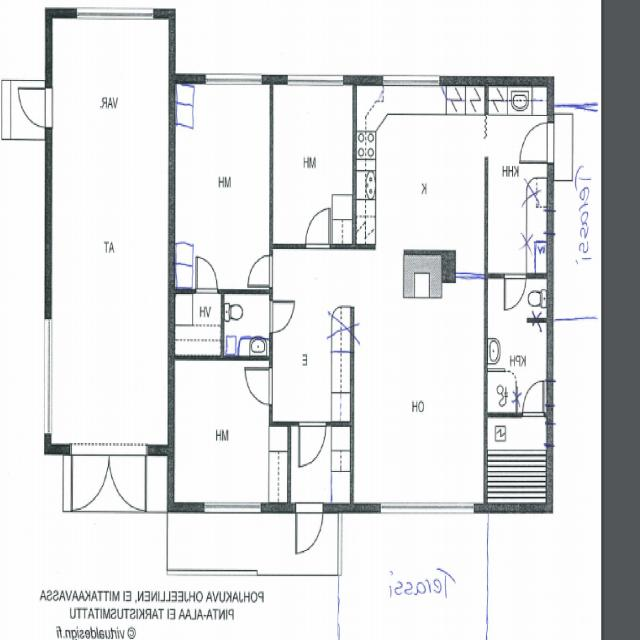door: (109, 445, 147, 512), (71, 445, 109, 512), (520, 122, 554, 162), (296, 504, 323, 553), (19, 88, 52, 127), (299, 422, 326, 468), (245, 368, 273, 404), (306, 208, 330, 249), (504, 273, 526, 311), (196, 257, 217, 294), (523, 381, 544, 418), (269, 301, 294, 332), (248, 256, 273, 286)
